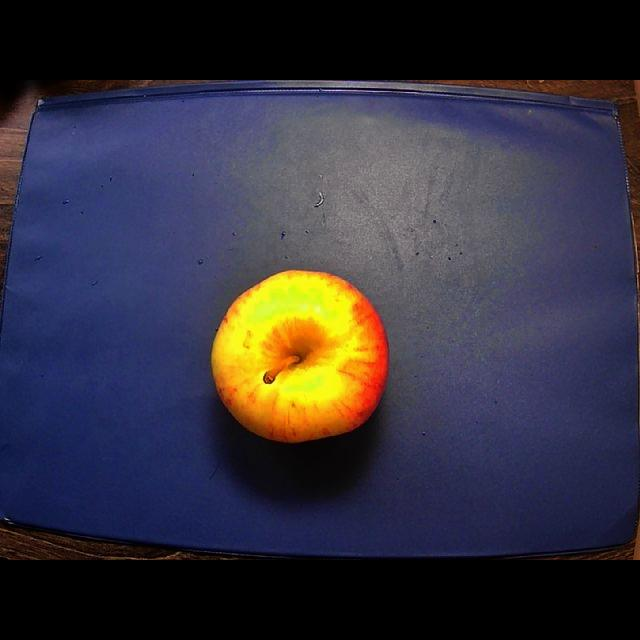manzana: (213, 271, 388, 442)
